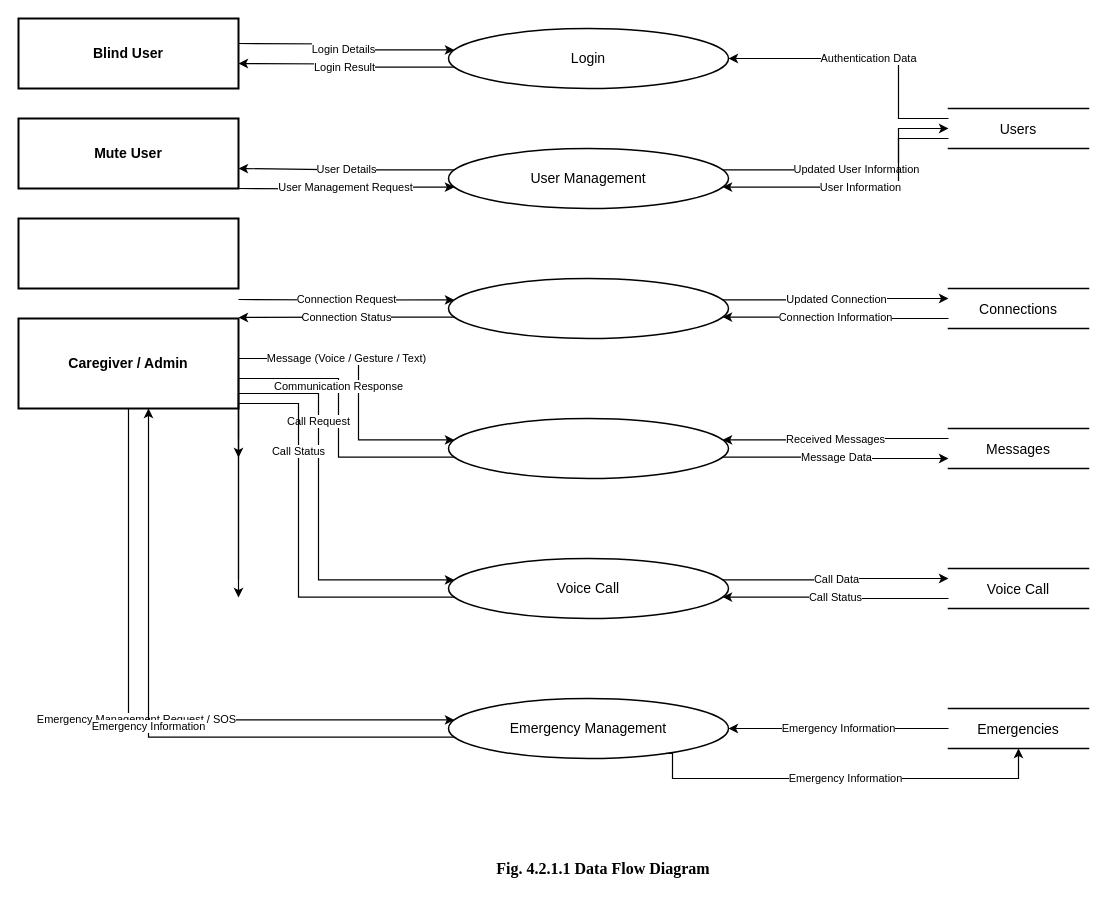
Image size: 1106x905. Some labels were removed from this diagram. The shapes that lost their labels are listed below. From the top down, each one's centre as x and y in pixels, then its label:
At (128,253): "Deaf User".
At (588,308): "Connection Management".
At (588,448): "Communication".
